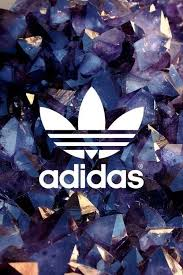adidas: (38, 87, 146, 188)
